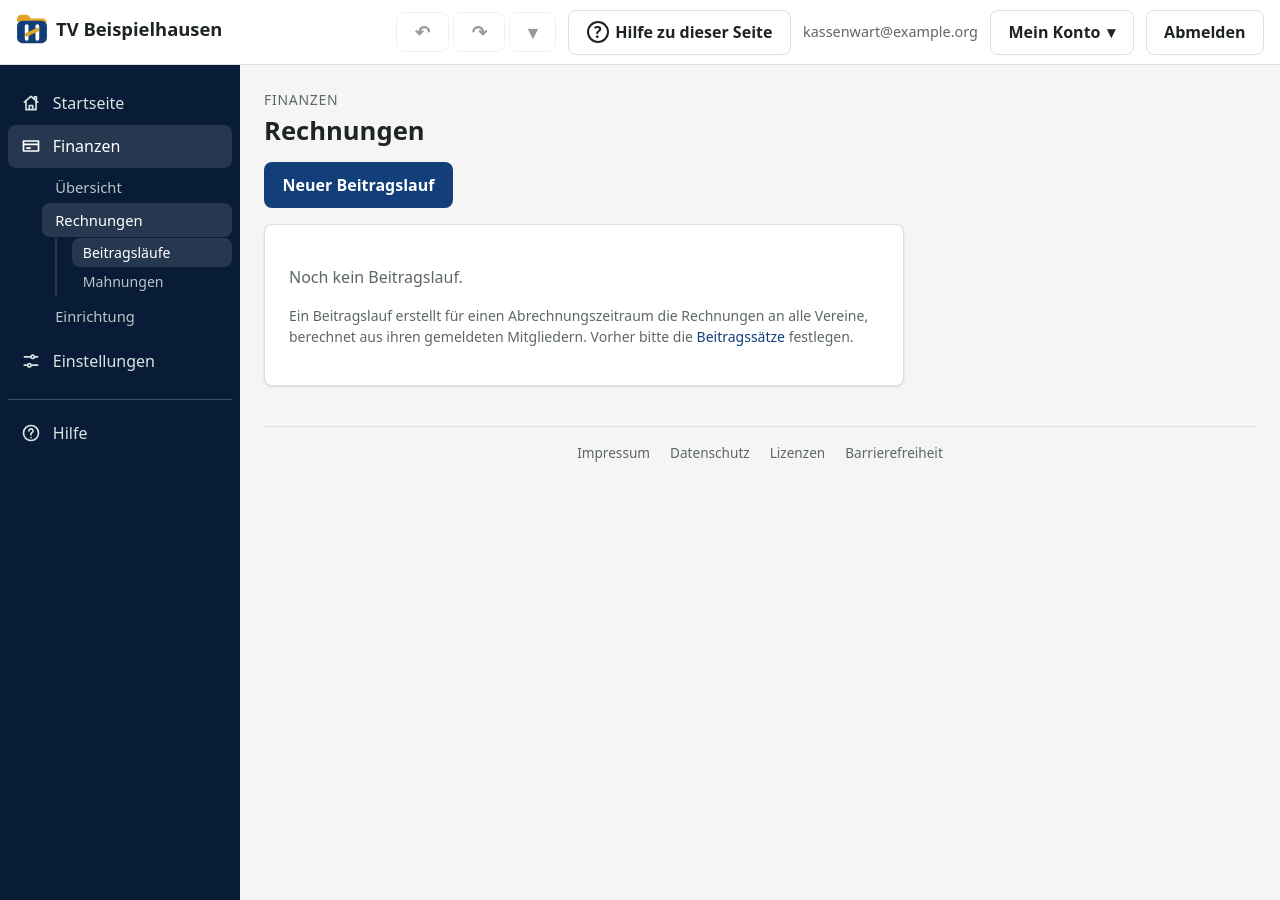
Beiträge › zeigt im Dachverband die Vorschau je Verein
Click the button "Neuer Beitragslauf" at (358, 185), box [264,162,453,208]
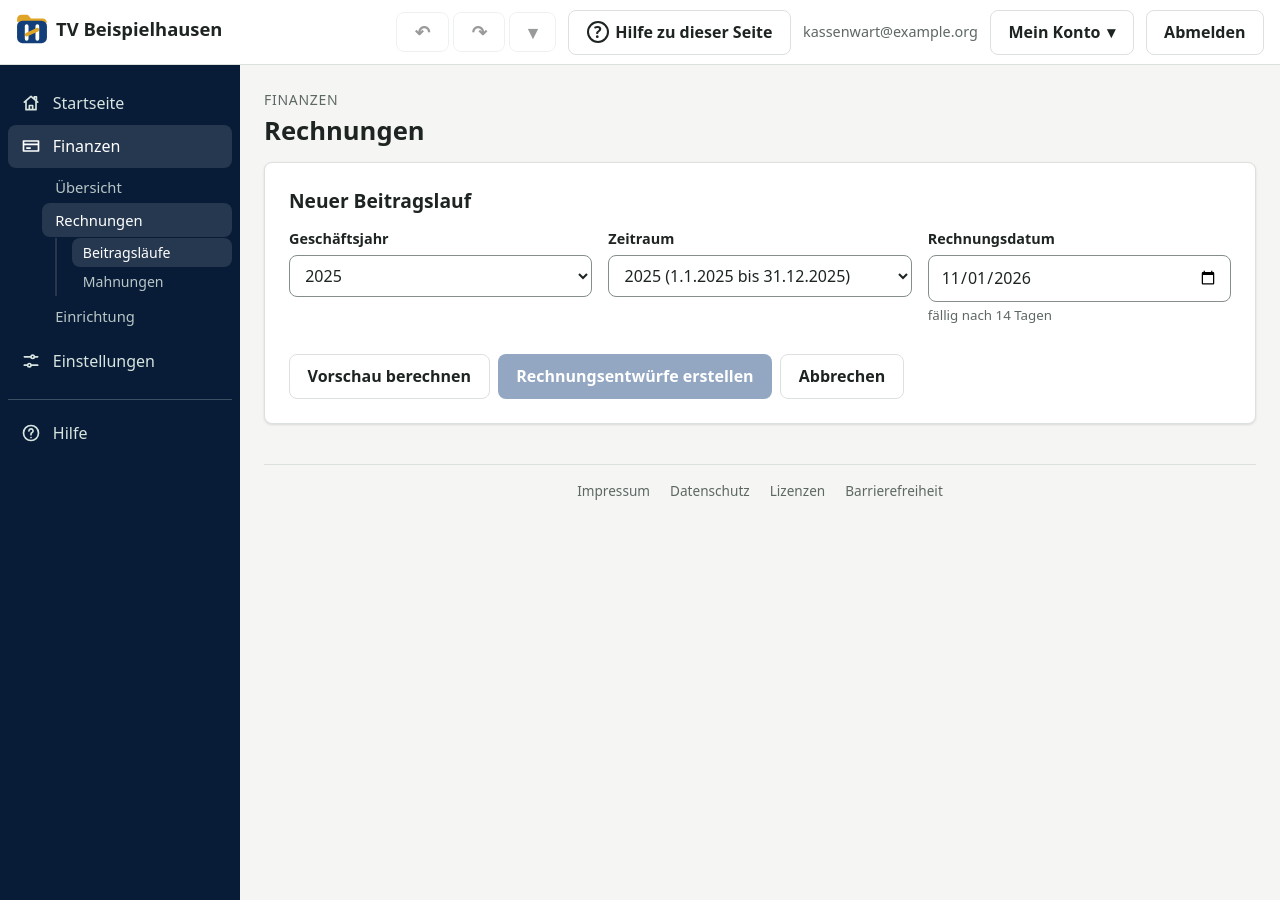
Click the button "Vorschau berechnen" at (389, 376), box [289,354,490,399]
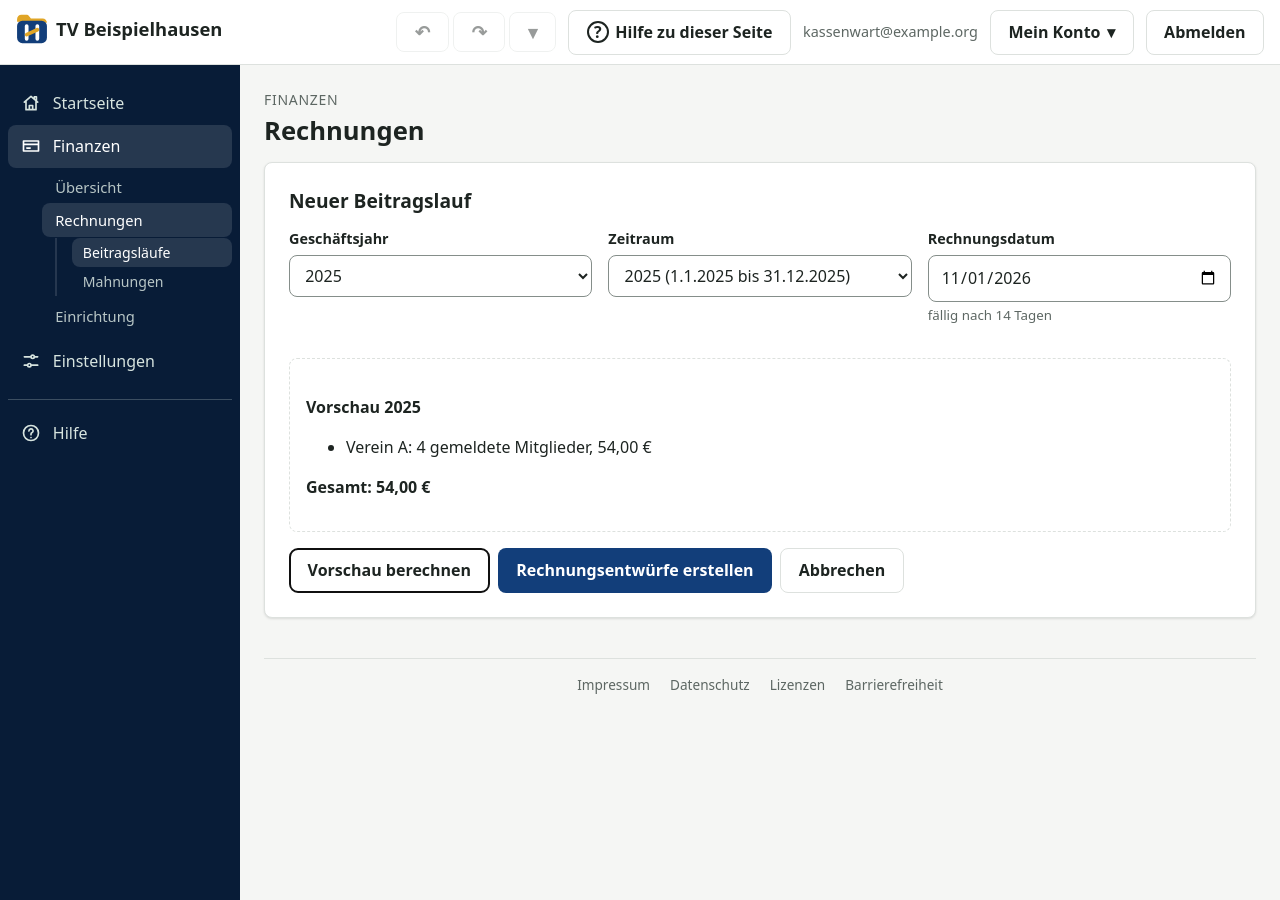
Expected: the list item "Verein A: 4 gemeldete Mitglieder, 54,00 €" is shown, [346,436,652,458]
Expected: the text "Gesamt: 54,00 €" is shown, [306,476,430,498]
